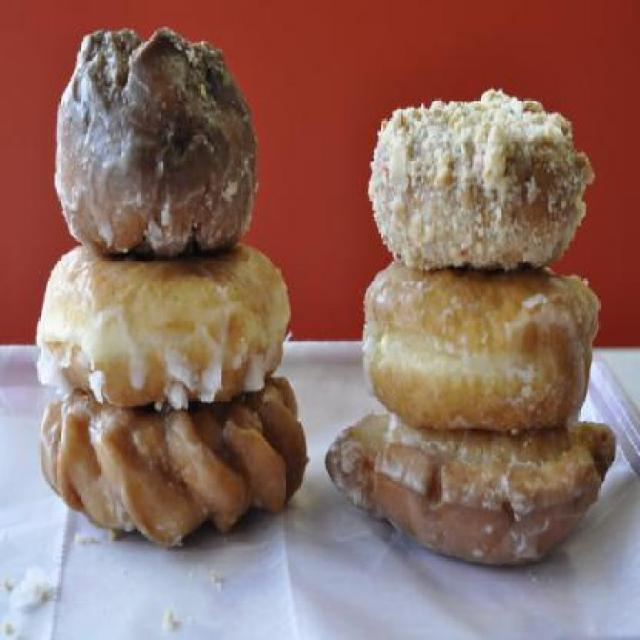Donuts: (34, 24, 638, 593)
